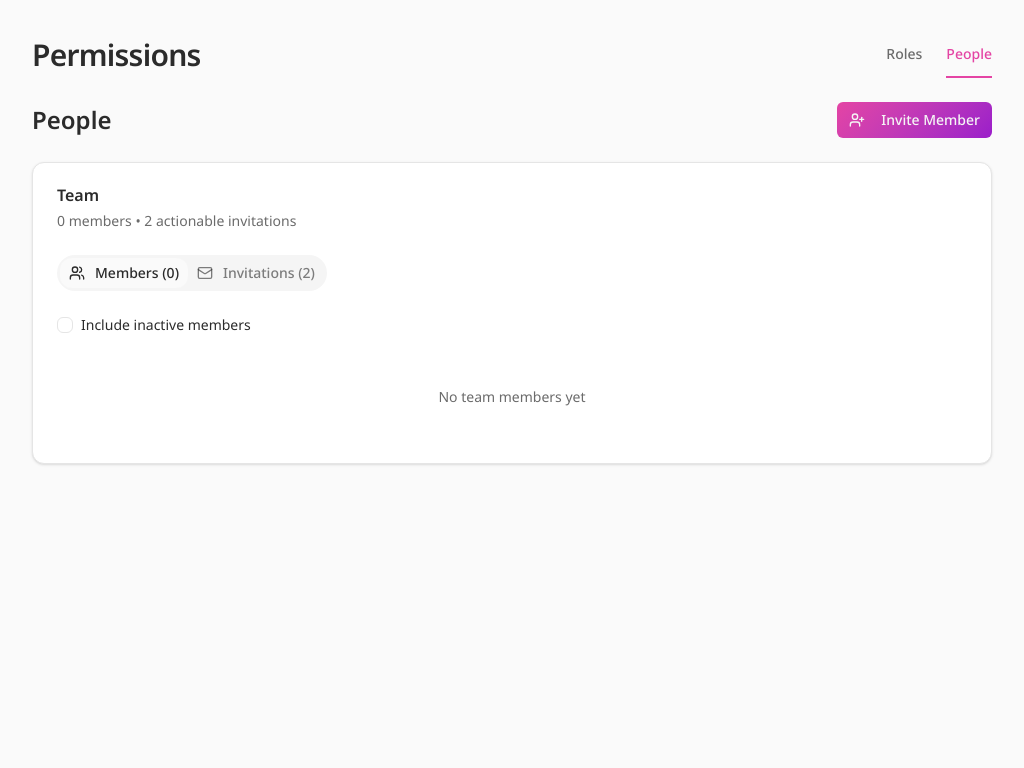
Test: TeamSettingsPage invitations tab › confirms a revoke in a dialog that names the invitee
What coordinates should you click on to do the following:
click the tab "Invitations (2)"
I would click on:
 (256, 273)
Its box is x1=188 y1=258 x2=324 y2=288.
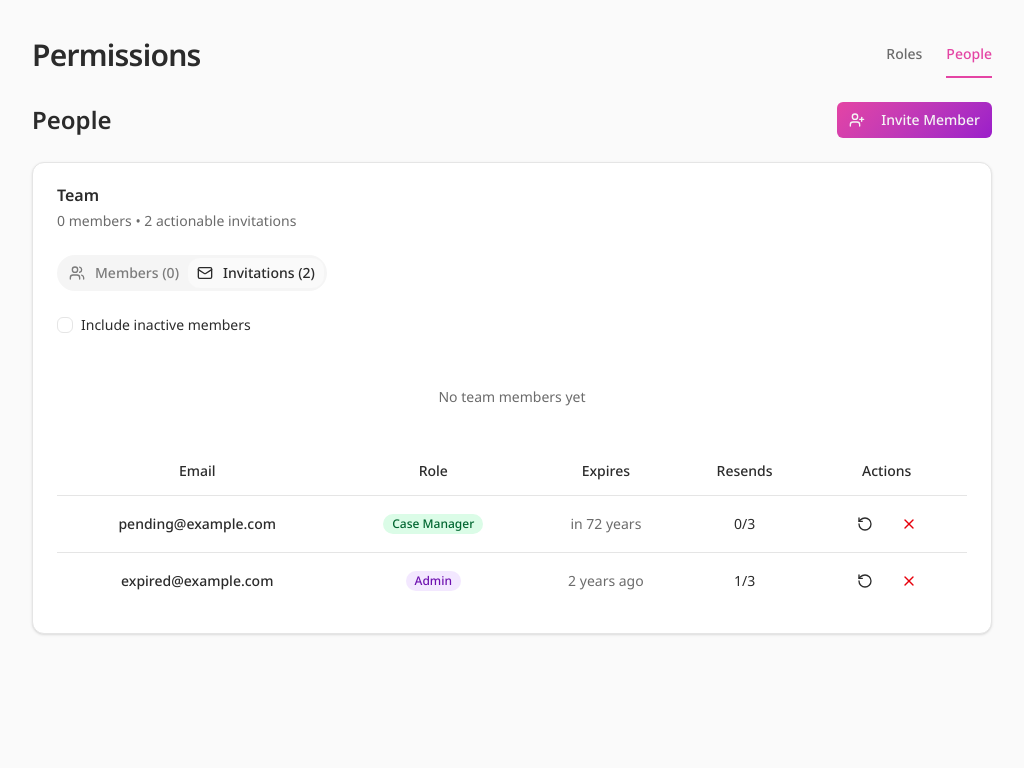
What coordinates should you click on to do the following:
click the button named "Revoke invitation for pending@example.com"
I would click on:
 (909, 524)
Its box is x1=891 y1=508 x2=927 y2=540.
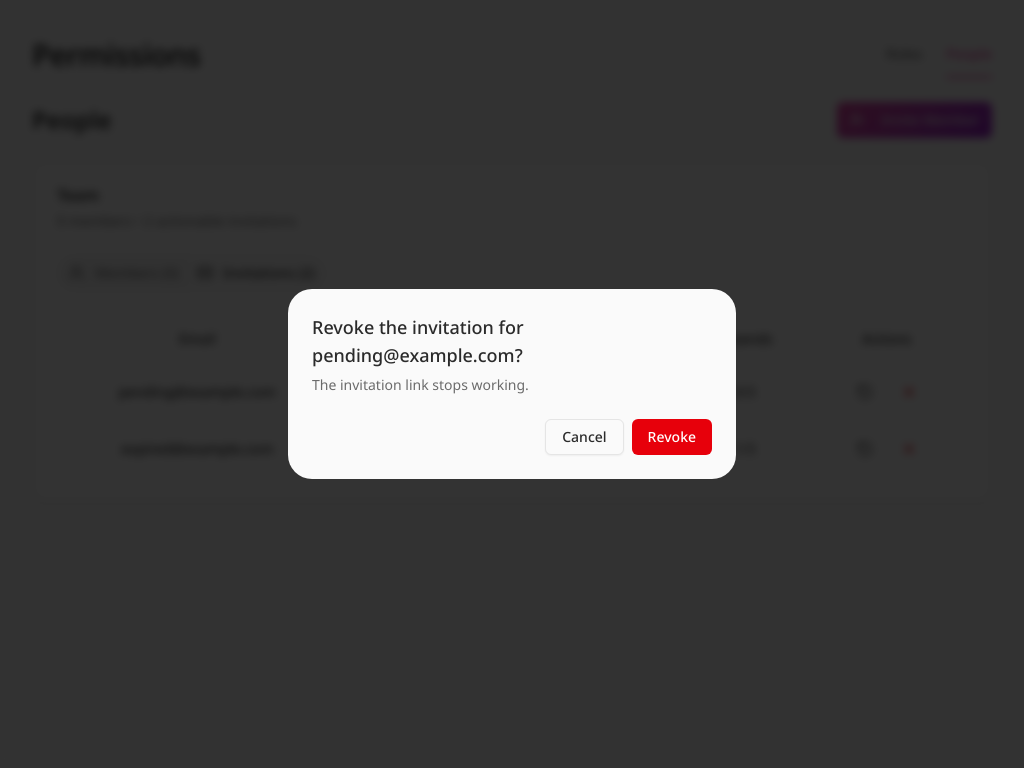
What coordinates should you click on to do the following:
click the button "Revoke"
I would click on:
 (672, 437)
Its box is x1=632 y1=419 x2=712 y2=455.
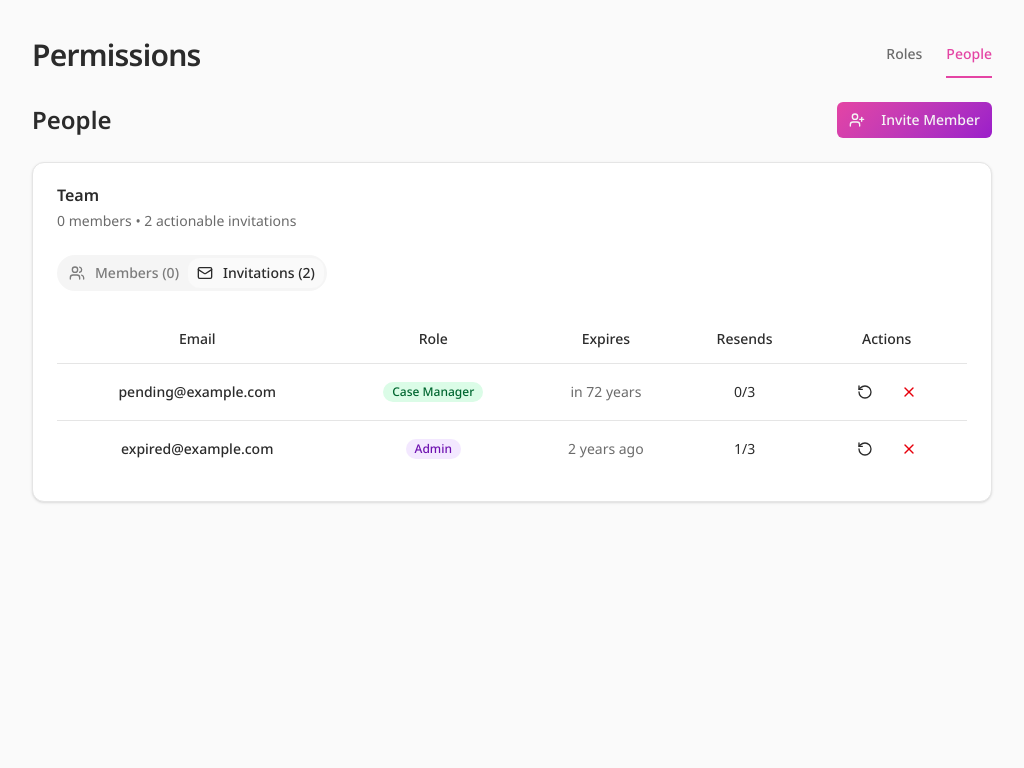
Check: the dialog is gone
